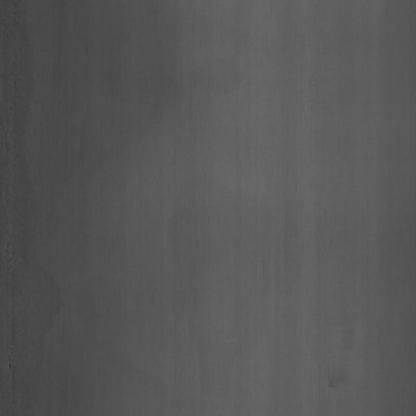oil_spot: (157, 152, 282, 388)
